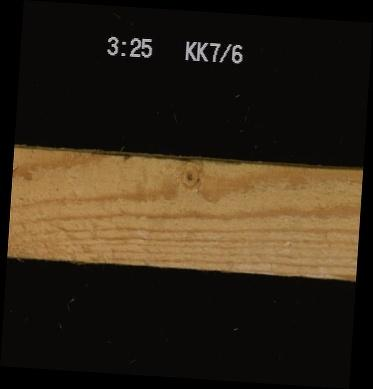small_knot: (175, 159, 203, 189)
